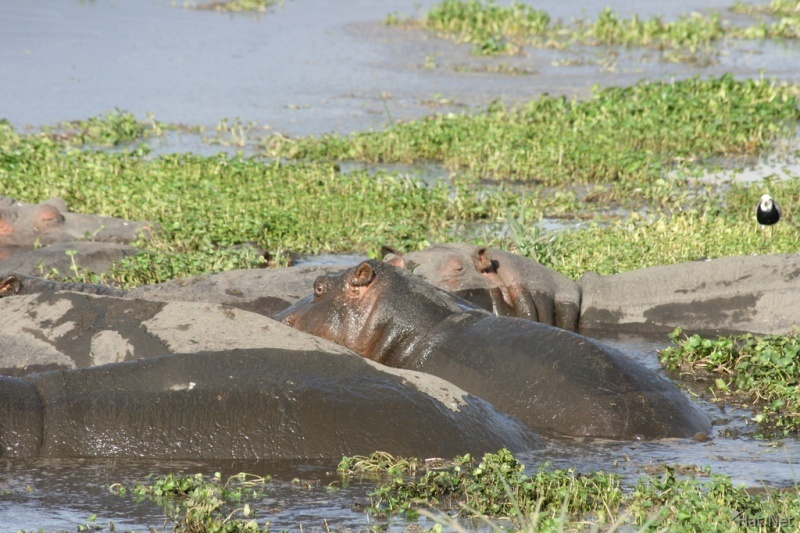hipopotamo: (264, 246, 717, 450), (382, 237, 800, 351), (1, 174, 160, 267)
